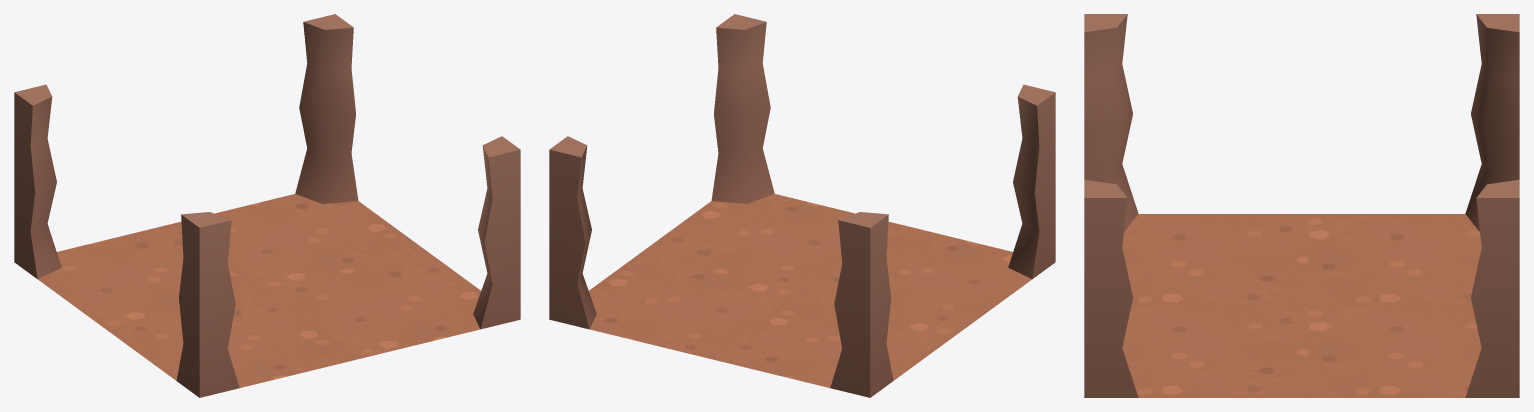
The model's file is corridor-wide-intersection.obj.
3 renders of one model, left to right at view 1: azimuth 30°, elevation 25°; view 2: azimuth 150°, elevation 25°; view 3: azimuth 270°, elevation 25°, orthographic. The views are drawn at different scales.
Visible parts, largest first — view 1: corridor-wide-intersection; view 2: corridor-wide-intersection; view 3: corridor-wide-intersection.
Part boxes in pixels (bbox=[...]): corridor-wide-intersection: bbox=[14, 14, 520, 397]; corridor-wide-intersection: bbox=[549, 14, 1055, 397]; corridor-wide-intersection: bbox=[1084, 14, 1519, 397].
Bounding box in the file's own units: 8 × 4.05 × 8.
Materials: 1 (1 with a texture image).
